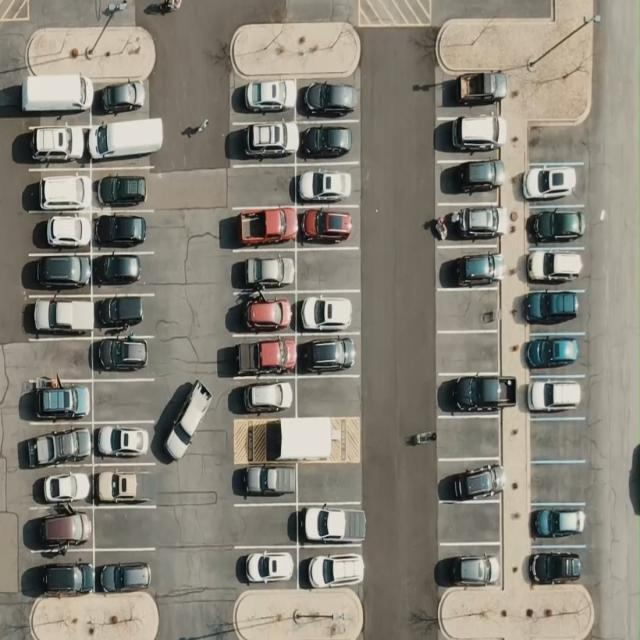space-empty: (26, 338, 94, 384), (231, 503, 297, 549), (438, 286, 500, 334), (437, 416, 504, 460), (92, 378, 160, 421), (94, 507, 161, 550), (296, 374, 359, 419), (227, 166, 295, 207), (296, 247, 360, 290), (438, 502, 502, 545), (527, 419, 589, 462), (297, 461, 358, 504), (438, 333, 500, 374), (529, 462, 588, 503), (530, 120, 586, 162)
space-occupied: (20, 117, 90, 170), (438, 370, 514, 417), (296, 498, 364, 548), (23, 288, 92, 337), (229, 370, 296, 418), (228, 248, 296, 295), (92, 118, 158, 166), (432, 68, 502, 113), (229, 119, 296, 165), (522, 246, 589, 292), (296, 287, 360, 335), (230, 542, 298, 587), (436, 203, 502, 249), (437, 160, 506, 204), (93, 462, 160, 507), (522, 159, 586, 206), (27, 508, 95, 552), (228, 205, 294, 250), (436, 246, 502, 291), (294, 161, 359, 206), (90, 164, 155, 209), (296, 550, 364, 593), (436, 546, 502, 590), (30, 464, 94, 509), (26, 554, 94, 596), (94, 332, 156, 378), (524, 206, 590, 249), (24, 79, 90, 122), (91, 421, 154, 466), (438, 460, 502, 504), (91, 208, 155, 252), (91, 250, 155, 294), (94, 550, 155, 596), (29, 380, 92, 424), (523, 332, 589, 374), (296, 205, 357, 250), (92, 77, 154, 121), (296, 334, 359, 377), (29, 210, 92, 253), (230, 334, 296, 375), (529, 501, 589, 546), (526, 371, 586, 416), (230, 79, 294, 120), (236, 462, 296, 505), (27, 419, 92, 458), (298, 122, 358, 164), (298, 81, 358, 123), (26, 254, 94, 291), (228, 298, 297, 334), (438, 115, 497, 156), (91, 296, 155, 333), (528, 288, 586, 328), (528, 546, 585, 586), (29, 173, 92, 204)
